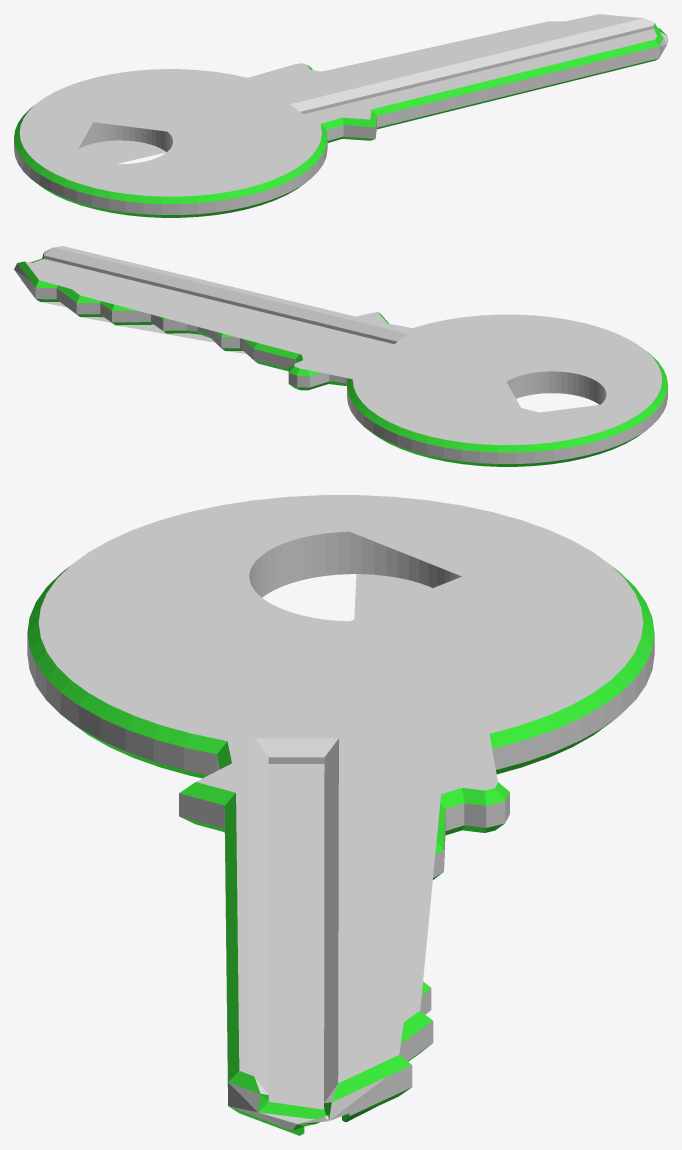
The model's file is Llave.fbx.
3 views of the same model, one above another, from view 1: azimuth 30°, elevation 25°; view 2: azimuth 150°, elevation 25°; view 3: azimuth 270°, elevation 25° (orthographic). The views are drawn at different scales.
Visible parts, largest first — view 1: Circle; view 2: Circle; view 3: Circle.
Part boxes in pixels (bbox=[...]): Circle: bbox=[14, 14, 667, 217]; Circle: bbox=[14, 246, 667, 466]; Circle: bbox=[27, 495, 654, 1135].
Size of the model in its own units: 160 by 5.24 by 70.
